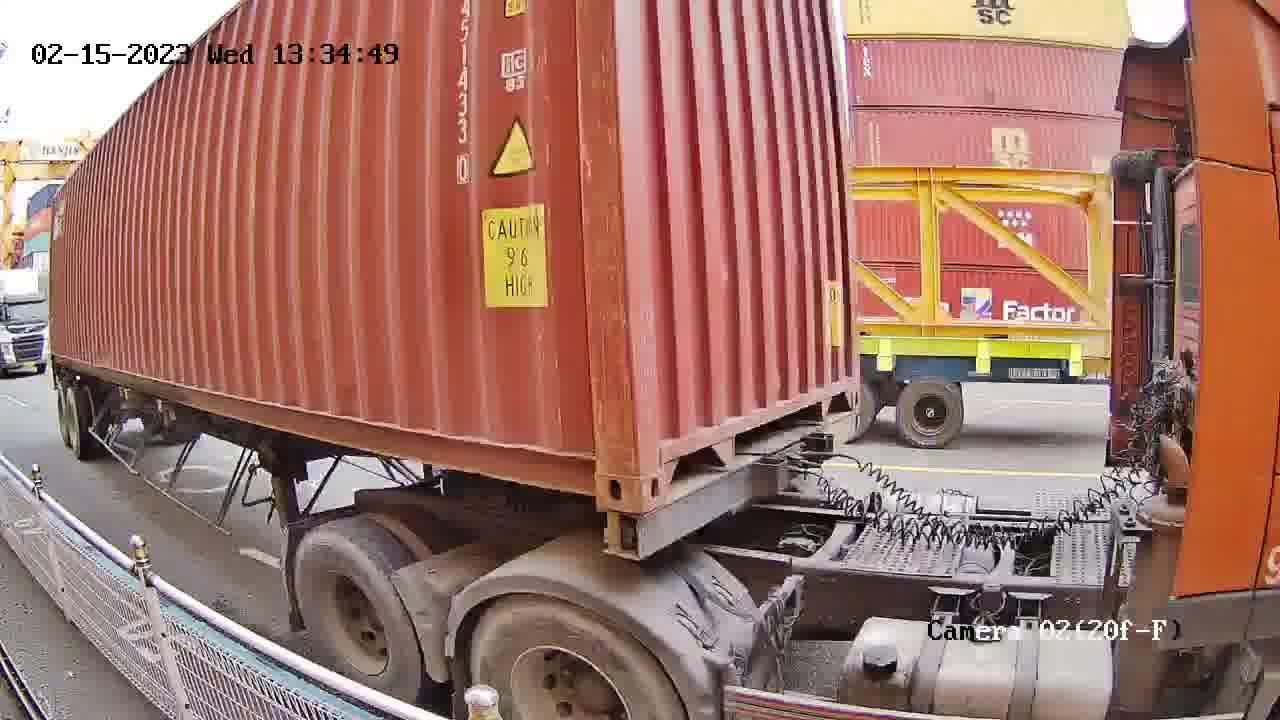Chassis: (609, 410, 857, 557)
Cone: (603, 509, 649, 555)
Hole_L: (638, 401, 698, 513)
Hole_R: (554, 414, 640, 511), (824, 349, 864, 418)
Tire: (457, 598, 682, 717), (292, 532, 421, 702)
